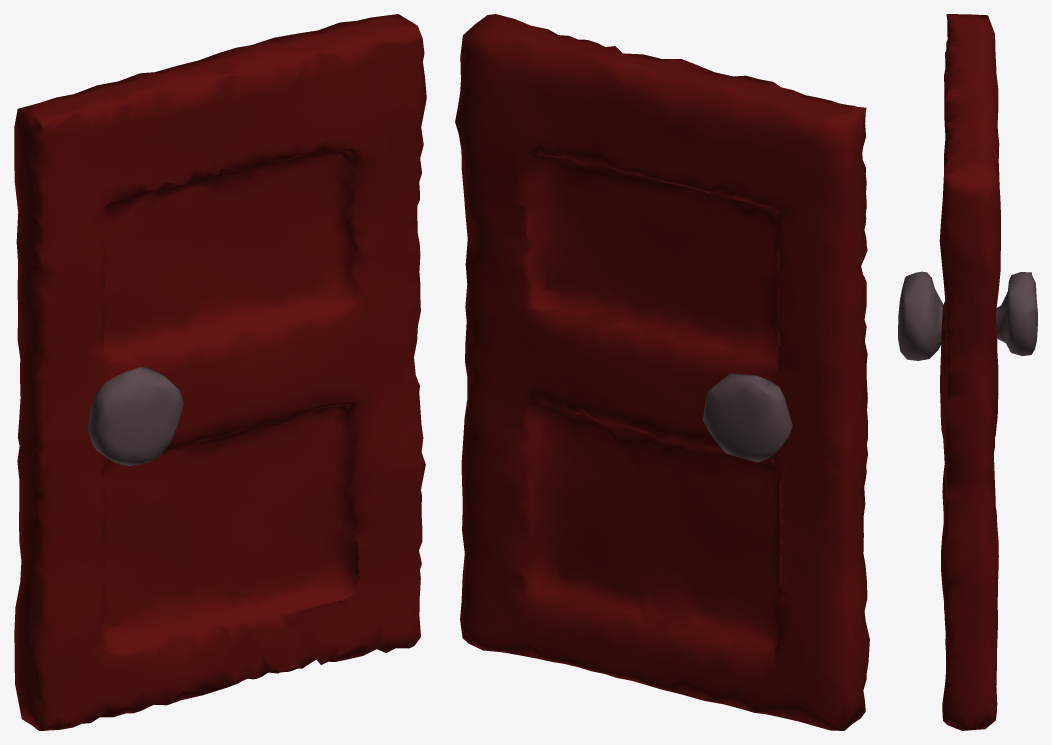
File: msh_Room_Door.fbx
3 views of the same model, side by side, from view 1: azimuth 30°, elevation 25°; view 2: azimuth 150°, elevation 25°; view 3: azimuth 270°, elevation 25° (orthographic). The views are drawn at different scales.
Parts seen in each view (by area): view 1: msh_Room_Door; view 2: msh_Room_Door; view 3: msh_Room_Door.
Boxes of the visible parts, bbox=[...] form: msh_Room_Door: bbox=[14, 14, 426, 730]; msh_Room_Door: bbox=[455, 14, 869, 730]; msh_Room_Door: bbox=[898, 14, 1037, 730].
Bounding box in the file's own units: 1.57 × 2.38 × 0.5416.
